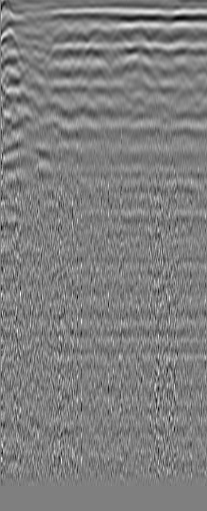오수: (19, 9, 39, 29)
우수: (174, 22, 194, 42)
